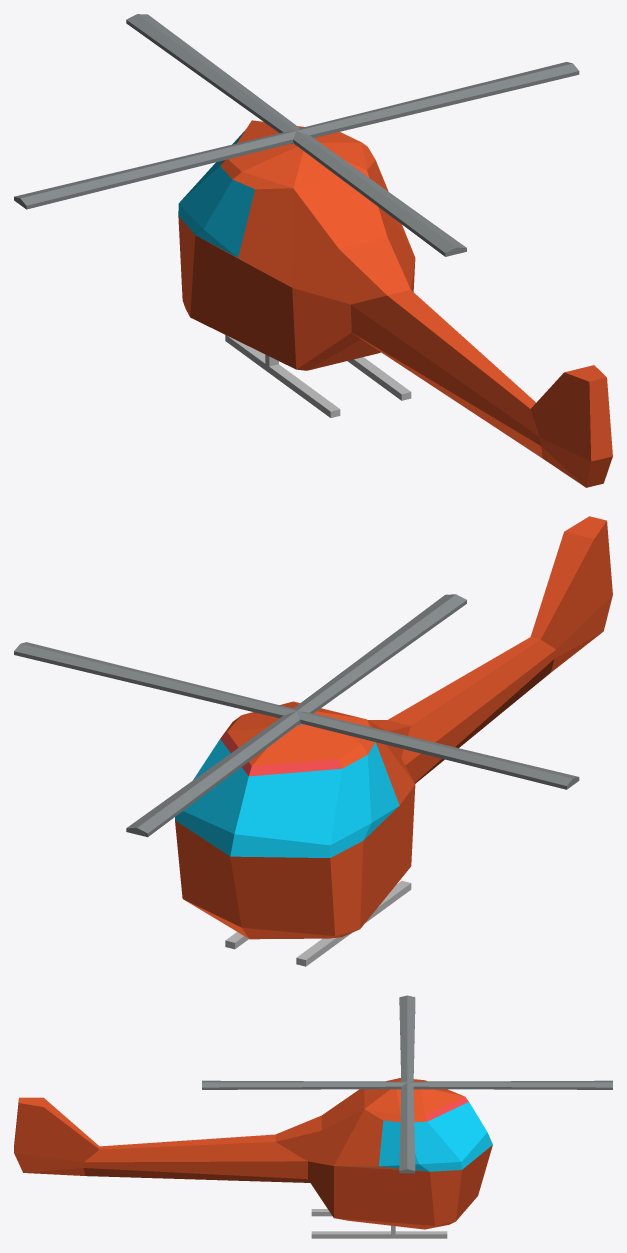
Rendered from heli.fbx.
The picture shows the model from 3 angles, top to bottom: view 1: azimuth 30°, elevation 25°; view 2: azimuth 150°, elevation 25°; view 3: azimuth 270°, elevation 25°; orthographic projection. The views are drawn at different scales.
Parts seen in each view (by area): view 1: 球, 立方体, 立方体.001; view 2: 球, 立方体, 立方体.001; view 3: 球, 立方体, 立方体.001.
Boxes of the visible parts, <box> form: 球: <box>178,120,612,487</box>; 立方体: <box>14,14,579,256</box>; 立方体.001: <box>225,335,411,417</box>; 球: <box>175,516,612,939</box>; 立方体: <box>14,594,579,837</box>; 立方体.001: <box>225,880,411,966</box>; 球: <box>14,1078,492,1229</box>; 立方体: <box>202,995,612,1173</box>; 立方体.001: <box>311,1209,447,1238</box>.
Size of the model in its own units: 388 by 149 by 565.
